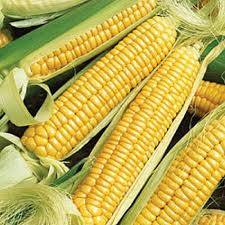banana: (9, 11, 220, 214)
